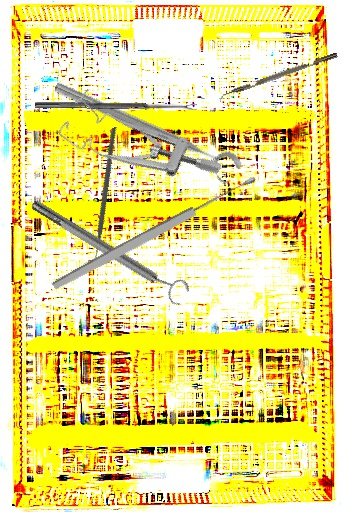Chopper: (38, 126, 163, 265), (217, 52, 340, 104)
Fixation Ring: (47, 76, 245, 189), (26, 190, 193, 310)
Speculum: (54, 75, 224, 222)
Surgical Spoon: (50, 173, 259, 292), (34, 101, 198, 112)
